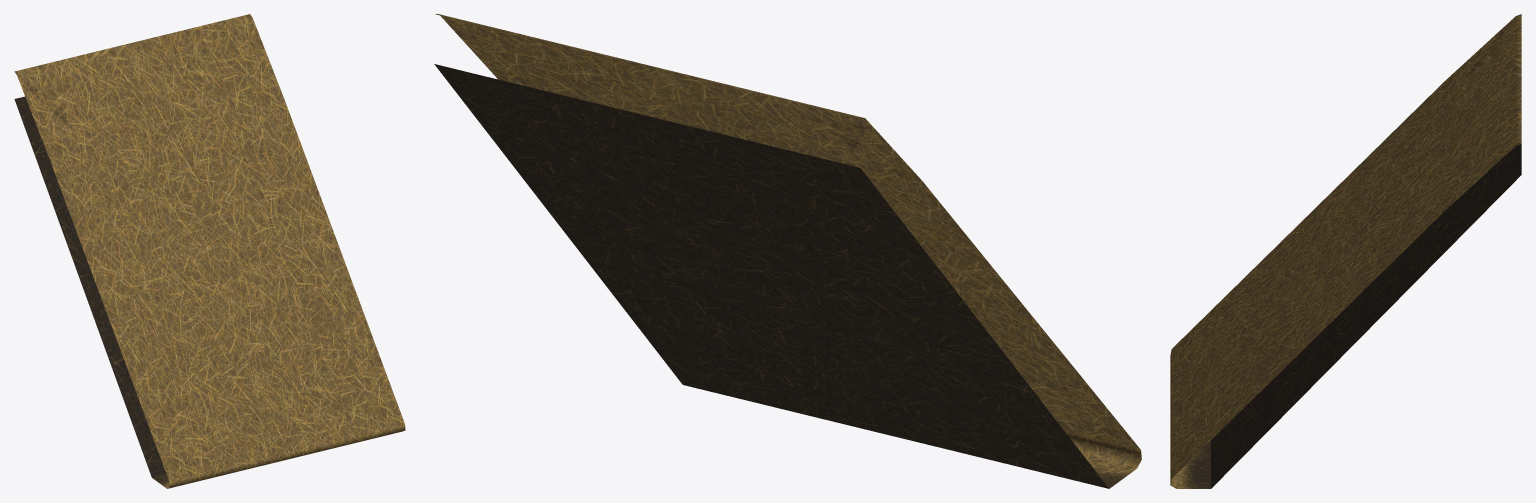
File: Roof_Hay_Middle.fbx
3 views of the same model, side by side, from view 1: azimuth 30°, elevation 25°; view 2: azimuth 150°, elevation 25°; view 3: azimuth 270°, elevation 25° (orthographic). The views are drawn at different scales.
Visible parts, largest first — view 1: Roof_Hay_Middle; view 2: Roof_Hay_Middle; view 3: Roof_Hay_Middle.
Boxes of the visible parts, x1,y1,x2,y2 form: Roof_Hay_Middle: [14, 14, 405, 488]; Roof_Hay_Middle: [434, 14, 1141, 488]; Roof_Hay_Middle: [1170, 14, 1521, 488].
Bounding box in the file's own units: 200 × 248 × 228.
